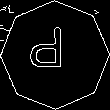P_S: (36, 29, 74, 81)
